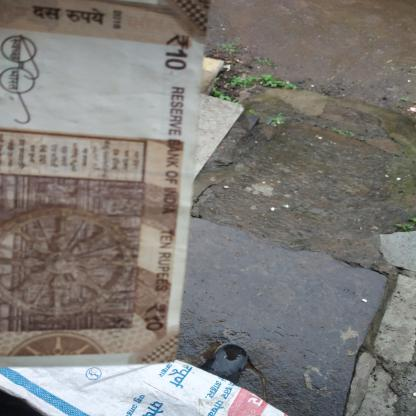New10Back: (0, 1, 180, 367)
